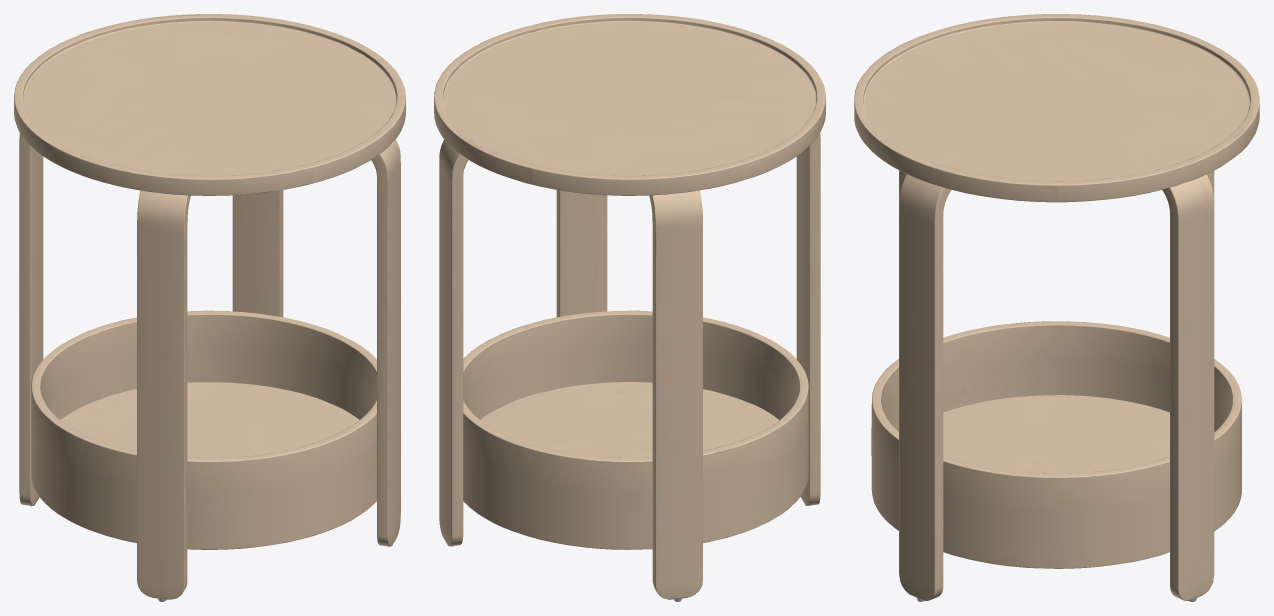
The model's file is LB-SIDETABLE-02.glb.
3 views of the same model, side by side, from view 1: azimuth 30°, elevation 25°; view 2: azimuth 150°, elevation 25°; view 3: azimuth 270°, elevation 25° (orthographic). The views are drawn at different scales.
Visible parts, largest first — view 1: ASY_ART_80619880_S01_NV01; view 2: ASY_ART_80619880_S01_NV01; view 3: ASY_ART_80619880_S01_NV01.
Part boxes in pixels (bbox=[...]): ASY_ART_80619880_S01_NV01: bbox=[14, 14, 405, 601]; ASY_ART_80619880_S01_NV01: bbox=[434, 14, 825, 601]; ASY_ART_80619880_S01_NV01: bbox=[854, 14, 1259, 601].
Size of the model in its own units: 0.4601 by 0.555 by 0.4598.
1 material, 1 textured.
